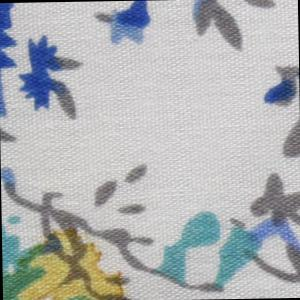Oil Stain: (2, 223, 132, 300)
